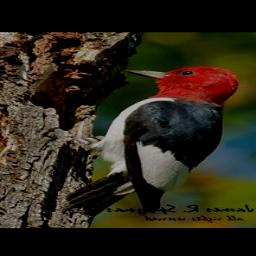Woodpecker: (56, 64, 238, 218)
